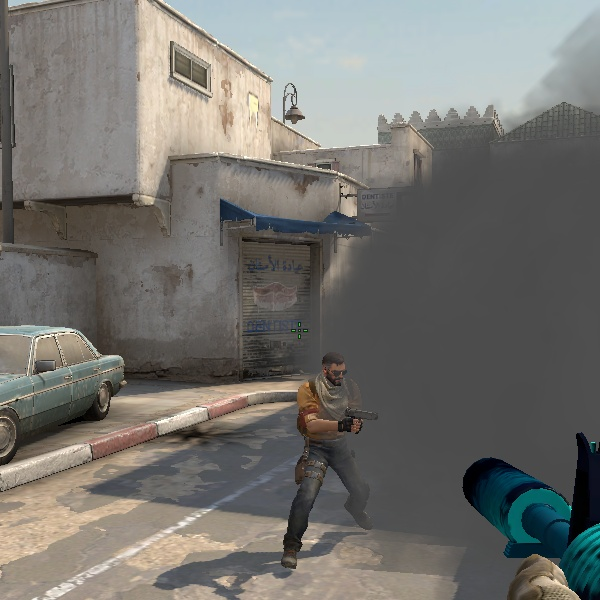t_body: (270, 342, 386, 576)
t_head: (314, 350, 353, 392)
